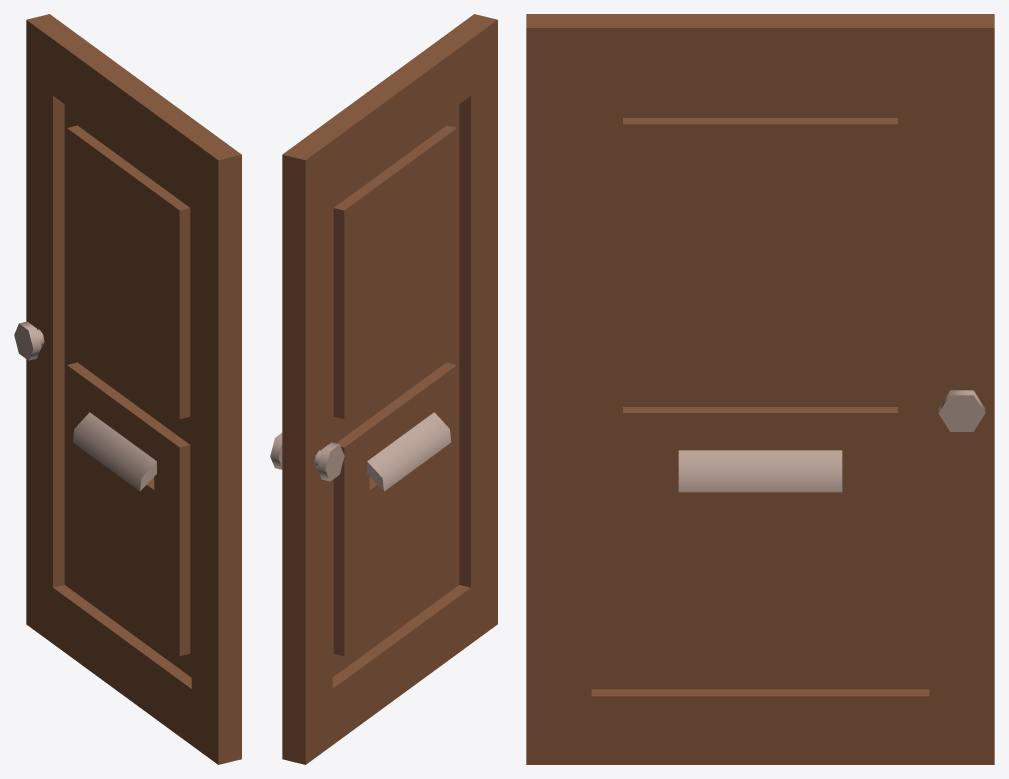
The model's file is main_door.fbx.
The picture shows the model from 3 angles, left to right: view 1: azimuth 30°, elevation 25°; view 2: azimuth 150°, elevation 25°; view 3: azimuth 270°, elevation 25°; orthographic projection. The views are drawn at different scales.
Visible parts, largest first — view 1: main_door; view 2: main_door; view 3: main_door.
Boxes of the visible parts, x1,y1,x2,y2 form: main_door: (14,14,241,764); main_door: (270,14,497,764); main_door: (526,14,994,764).
Size of what is drawn, in the model's own units: 141 by 23.38 by 244.
